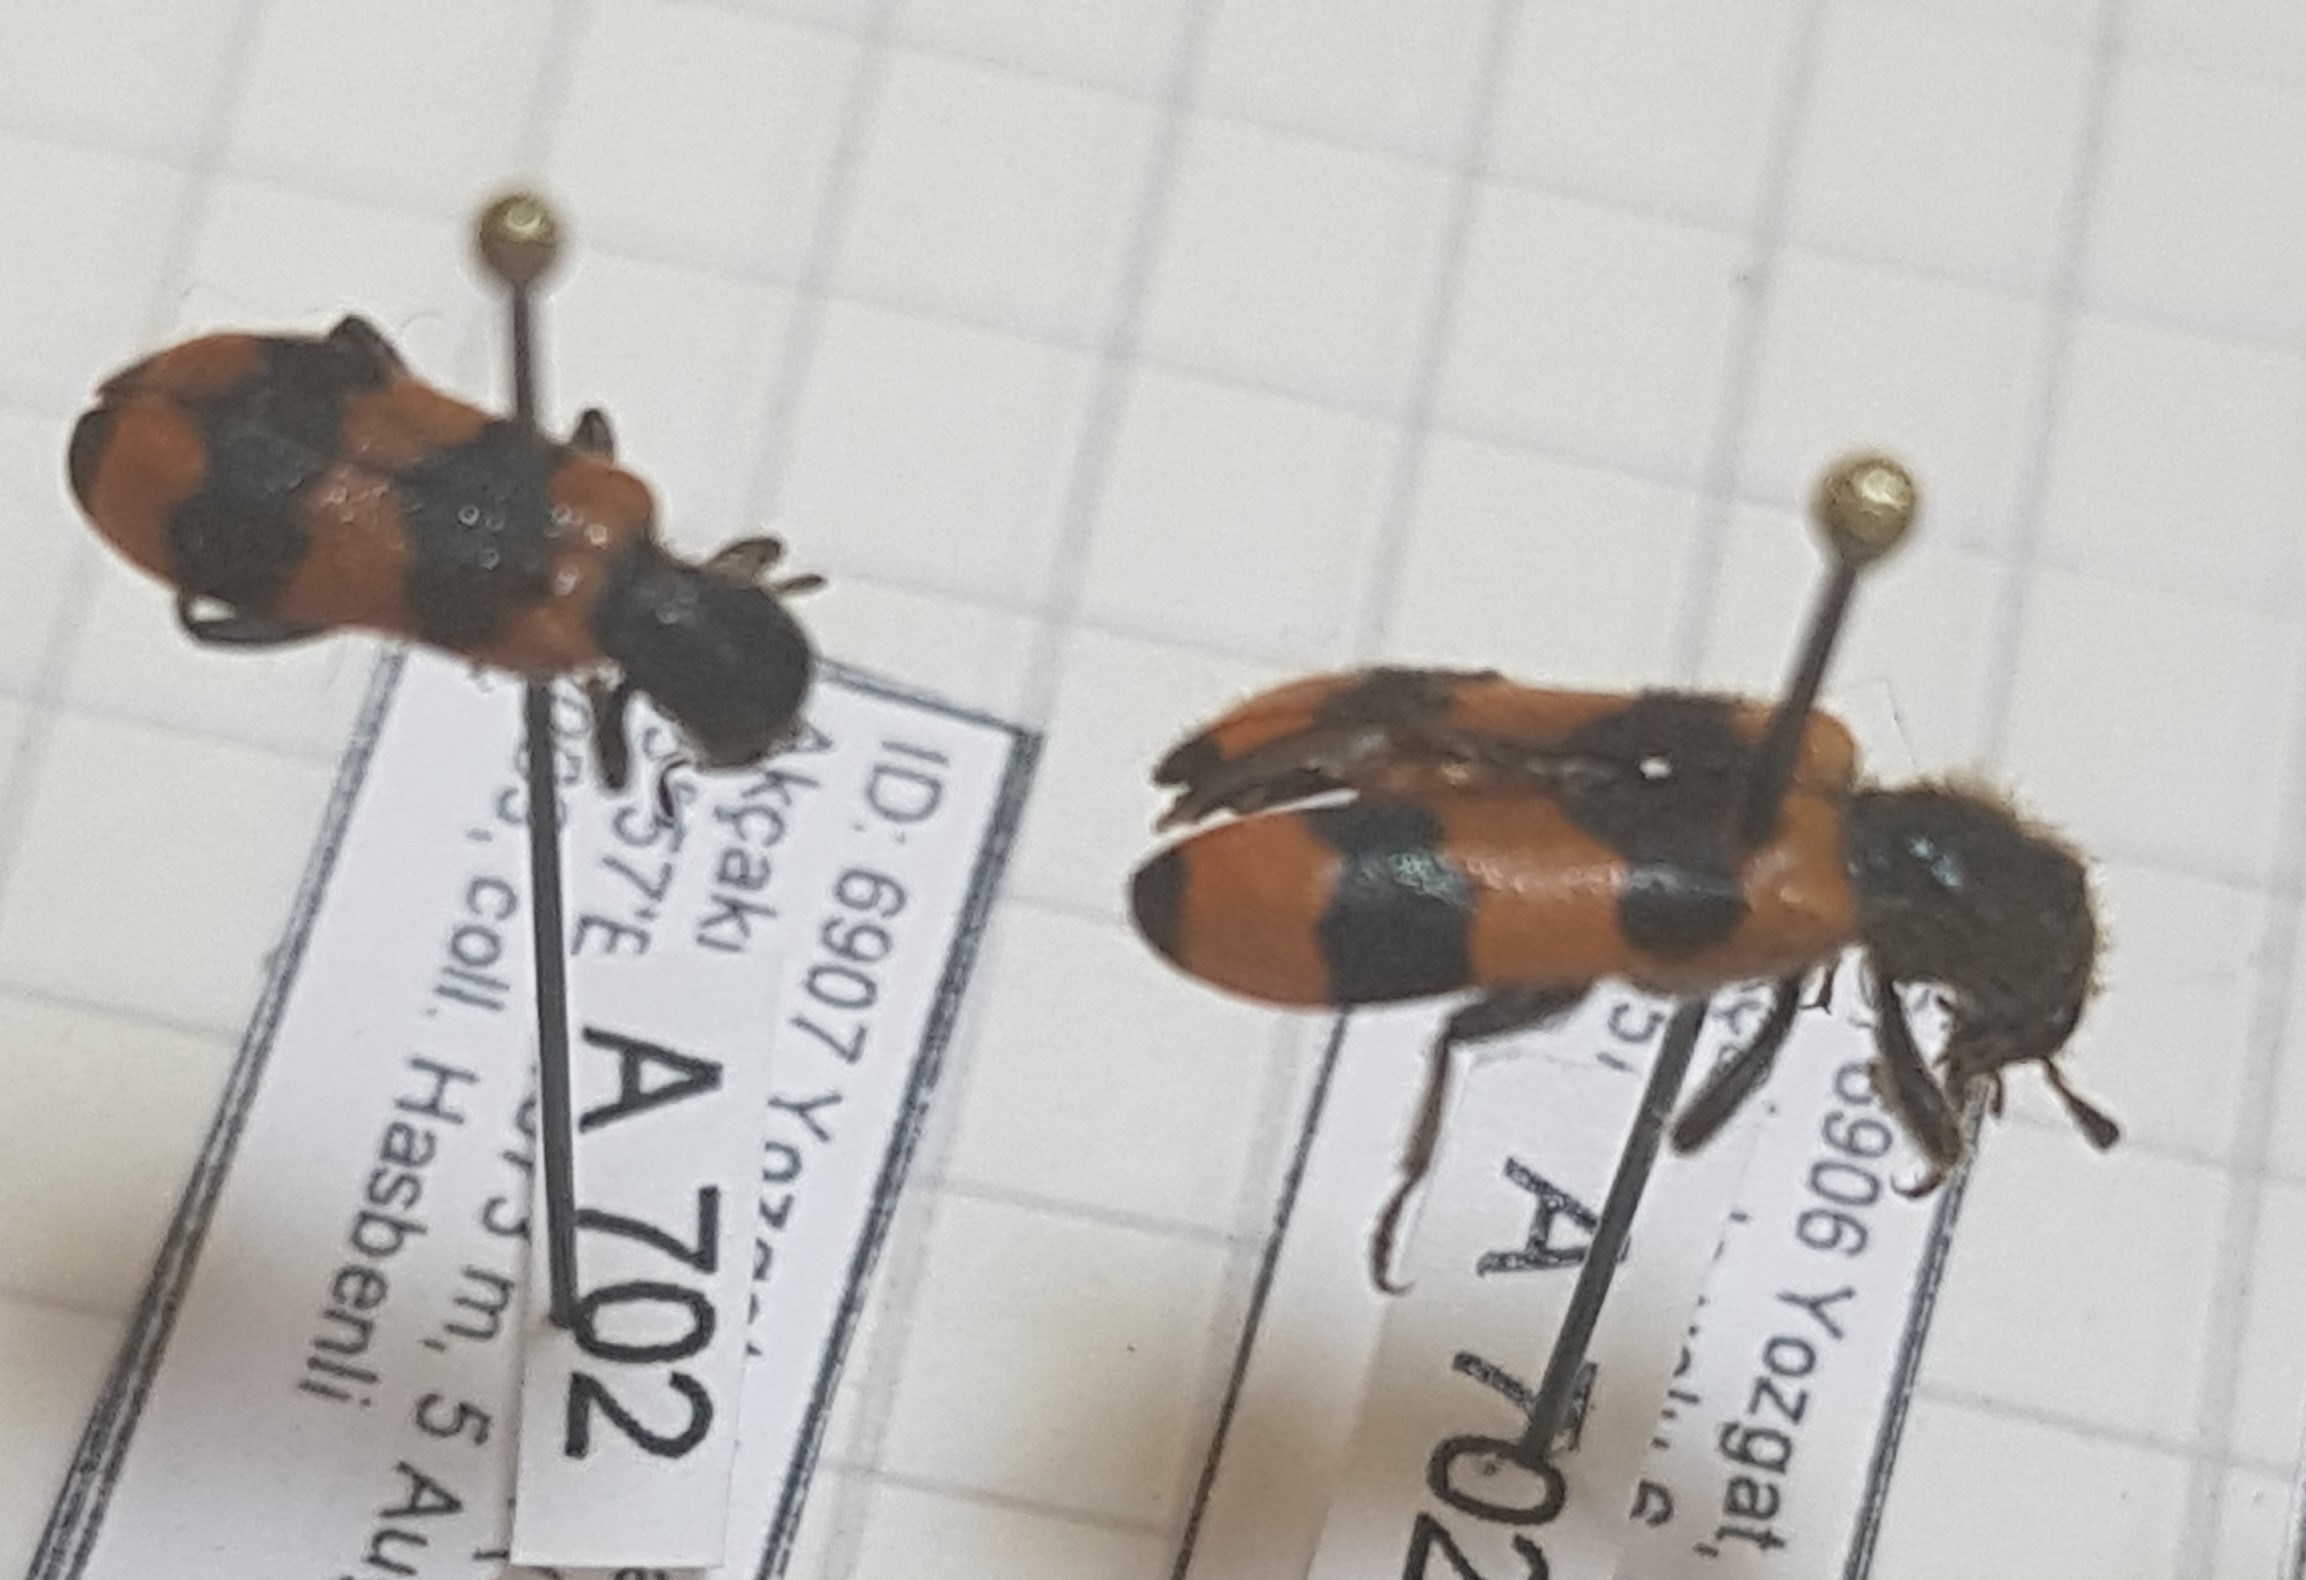trichodes_apiarius: (1099, 655, 2120, 1286), (30, 287, 846, 834)
